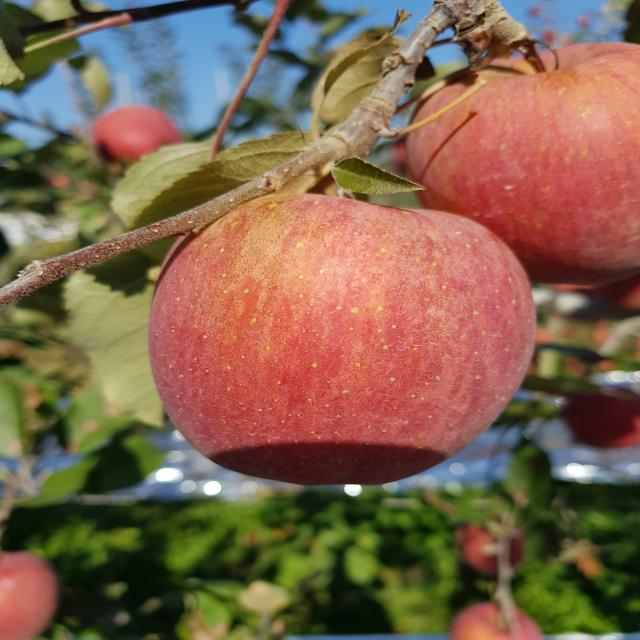fresh: (135, 179, 549, 496)
